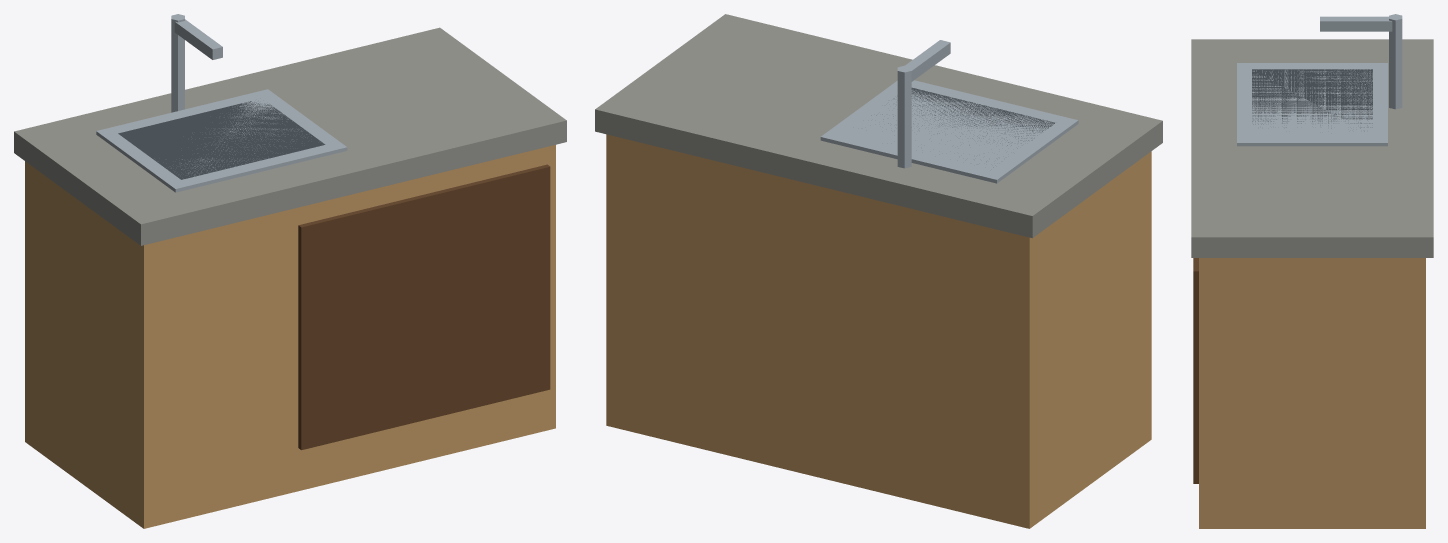
File: GH_Sink_Kitchen_01.glb
3 views of the same model, side by side, from view 1: azimuth 30°, elevation 25°; view 2: azimuth 150°, elevation 25°; view 3: azimuth 270°, elevation 25° (orthographic). The views are drawn at different scales.
Visible parts, largest first — view 1: GH_Sink_Kitchen_01; view 2: GH_Sink_Kitchen_01; view 3: GH_Sink_Kitchen_01.
Part boxes in pixels (x1=…): GH_Sink_Kitchen_01: x1=14, y1=14, x2=566, y2=528; GH_Sink_Kitchen_01: x1=595, y1=14, x2=1162, y2=528; GH_Sink_Kitchen_01: x1=1191, y1=14, x2=1433, y2=528.
Bounding box in the file's own units: 1.24 × 1.12 × 0.64.
Materials: 1 (1 with a texture image).
